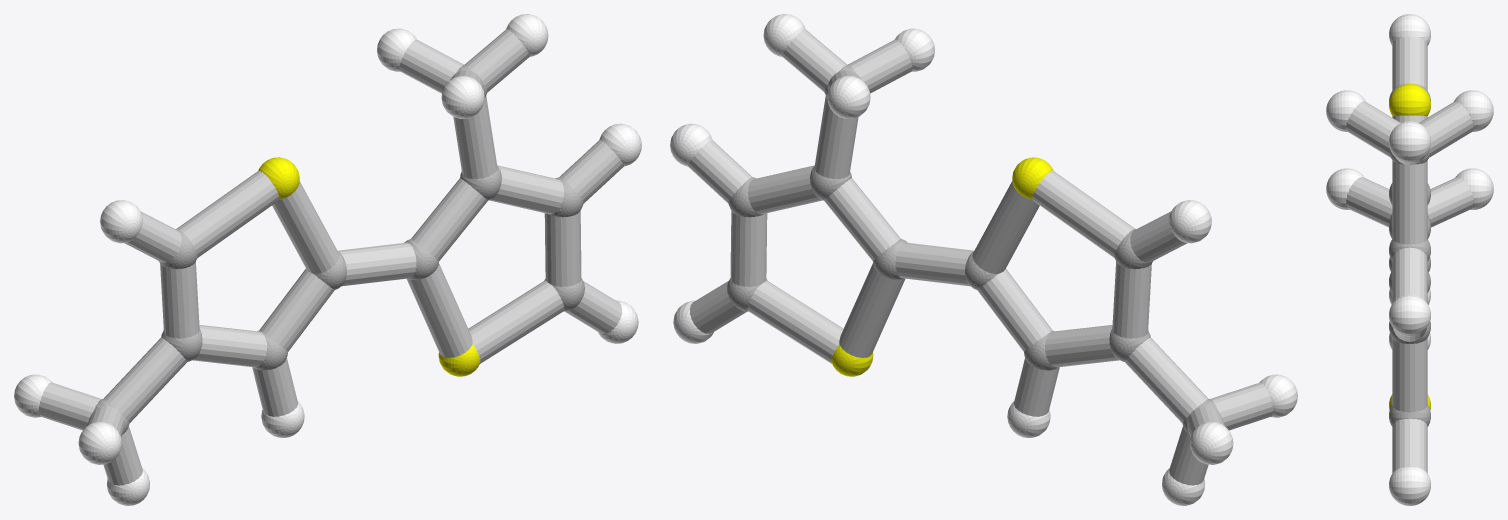
The model's file is color.glb.
3 views of the same model, side by side, from view 1: azimuth 30°, elevation 25°; view 2: azimuth 150°, elevation 25°; view 3: azimuth 270°, elevation 25° (orthographic). The views are drawn at different scales.
Parts seen in each view (by area): view 1: grp7965, grp3621, grp1, grp7241; view 2: grp7965, grp3621, grp1, grp7241; view 3: grp7965, grp3621, grp1, grp7241.
Boxes of the visible parts, x1,y1,x2,y2 form: grp7965: (38, 29, 623, 485); grp3621: (14, 14, 641, 505); grp1: (93, 65, 584, 434); grp7241: (258, 157, 480, 376); grp7965: (688, 29, 1273, 485); grp3621: (670, 14, 1297, 505); grp1: (727, 65, 1218, 434); grp7241: (831, 157, 1053, 376); grp7965: (1346, 36, 1473, 473); grp3621: (1326, 14, 1493, 505); grp1: (1389, 83, 1430, 426); grp7241: (1389, 83, 1430, 409).
Bounding box in the file's own units: 9.42 × 5.96 × 2.39.
